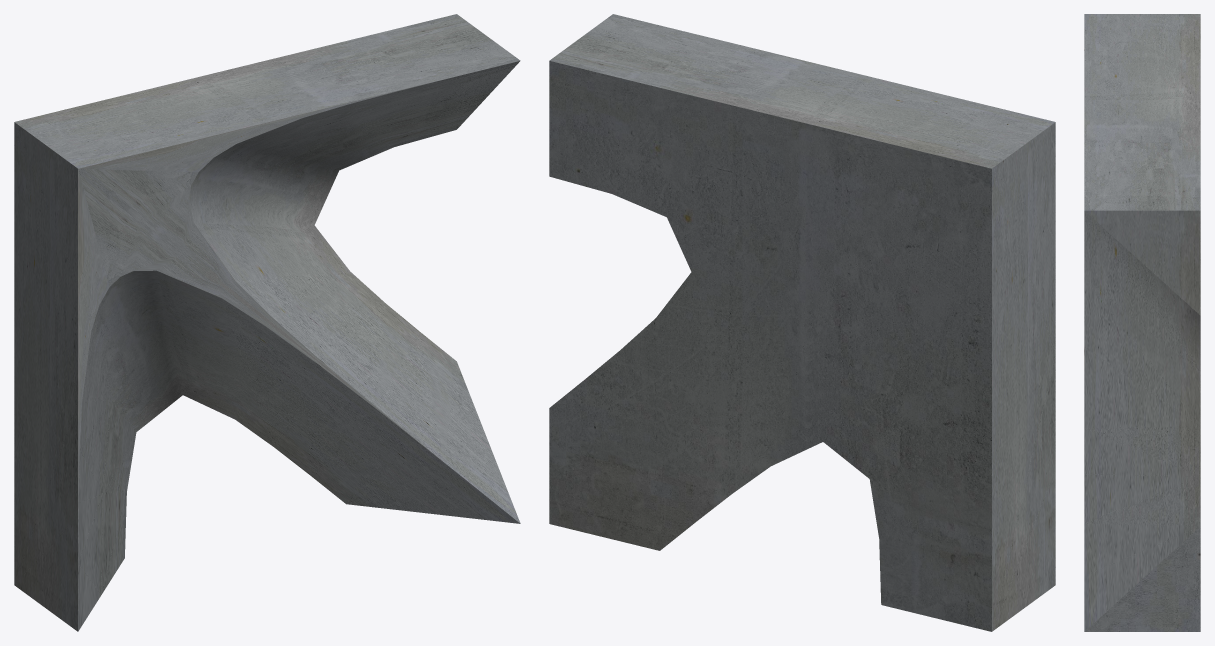
The model's file is module_H4.fbx.
3 renders of one model, left to right at view 1: azimuth 30°, elevation 25°; view 2: azimuth 150°, elevation 25°; view 3: azimuth 270°, elevation 25°, orthographic. The views are drawn at different scales.
Visible parts, largest first — view 1: modules; view 2: modules; view 3: modules.
Boxes of the visible parts, x1,y1,x2,y2 form: modules: (14, 14, 520, 631); modules: (549, 14, 1055, 631); modules: (1084, 14, 1200, 631).
Bounding box in the file's own units: 1000 × 250 × 1000.
1 material, 1 textured.
